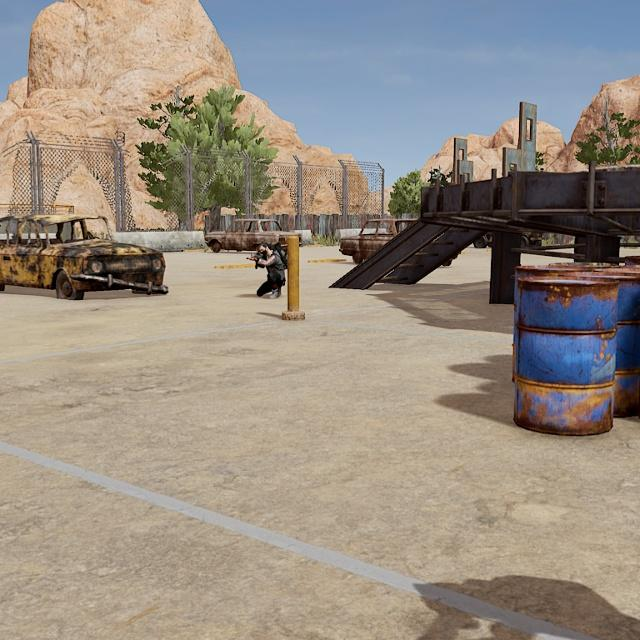head: (256, 240, 271, 258)
people: (252, 239, 288, 300)
